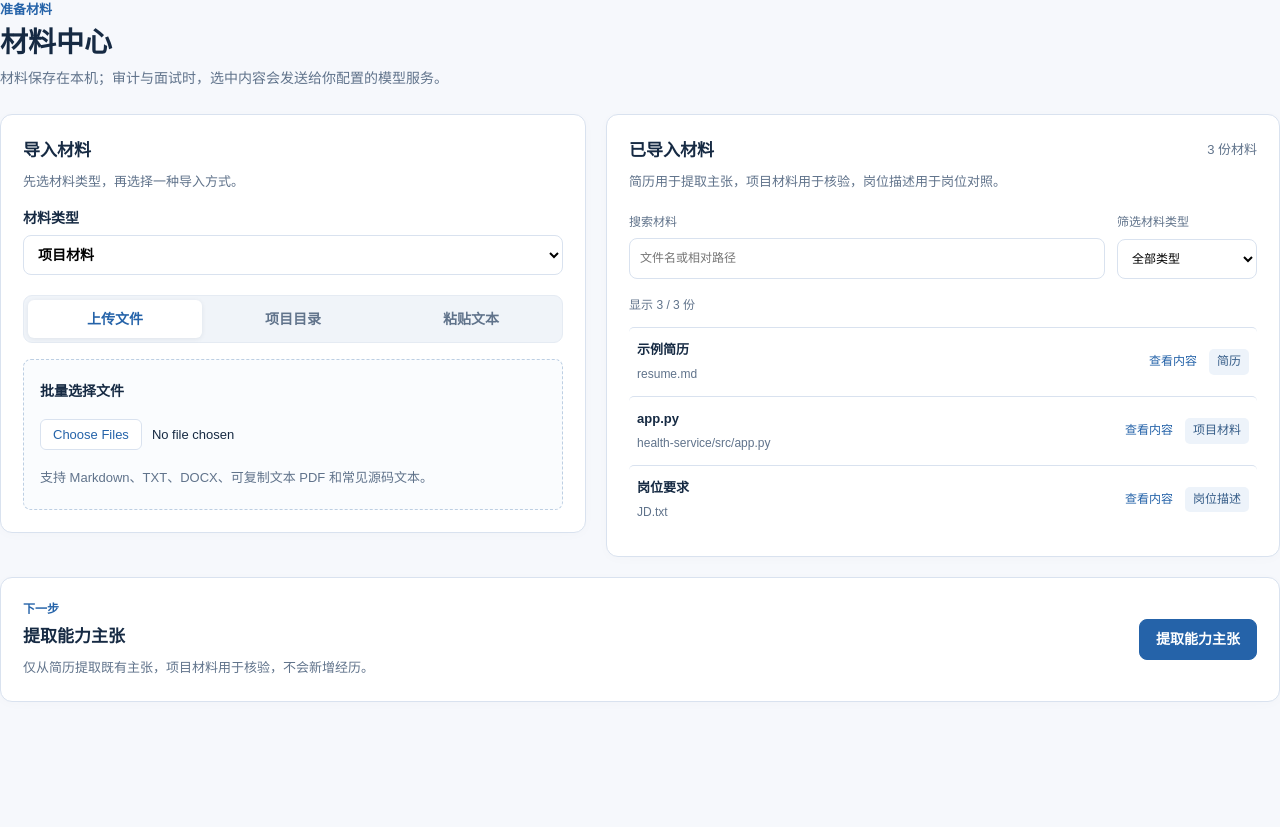
Scenario: 预览失败（http）不展示旧内容，允许手动重试GET
This screenshot has width=1280, height=827.
What coordinates should you click on to do the following:
click the button "app.py health-service/src/app.py 查看内容"
I would click on:
 (658, 418)
Its box is [637,409,1173,453].
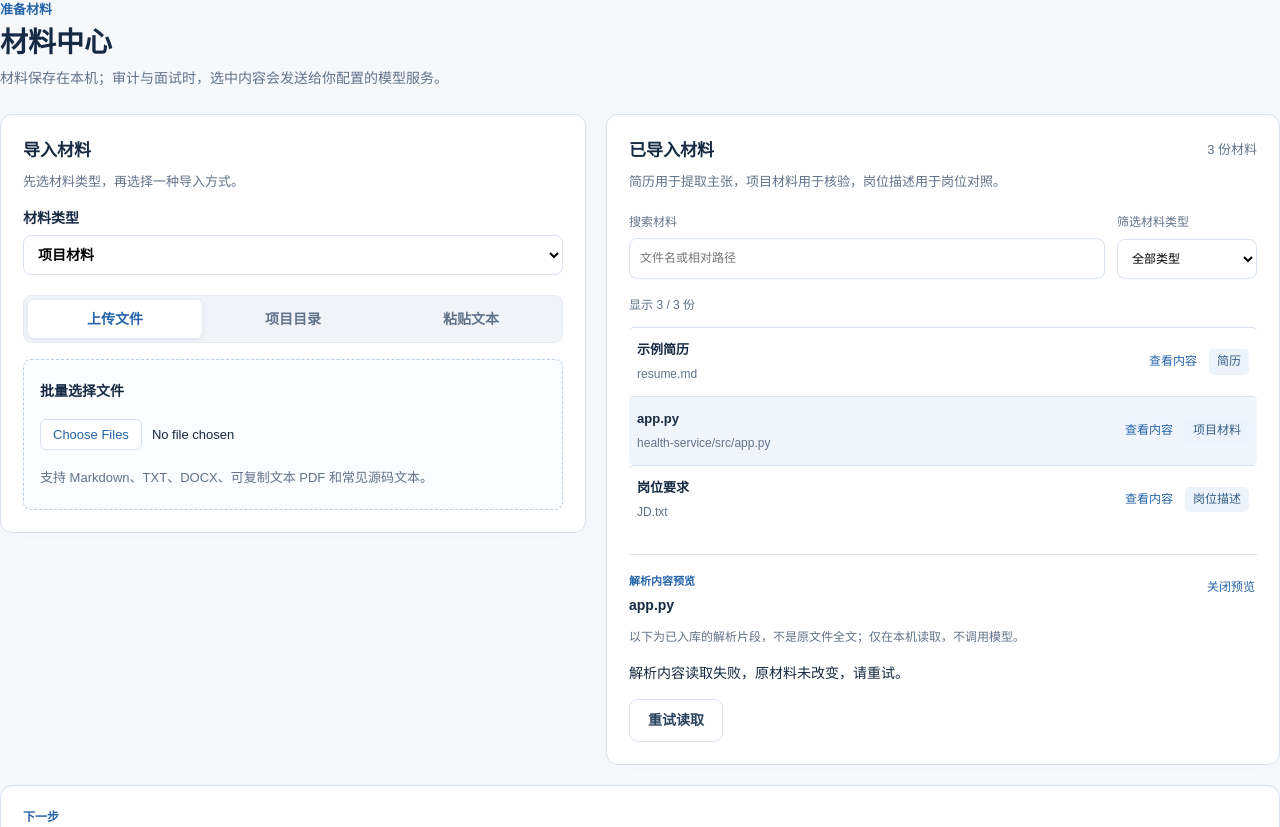
Check: the text "原文片段" is not shown
Check: the message shows "解析内容读取失败", box [629,666,909,682]
What coordinates should you click on to do the following:
click the button "重试读取"
I would click on:
 (676, 720)
Its box is [629,699,723,742].
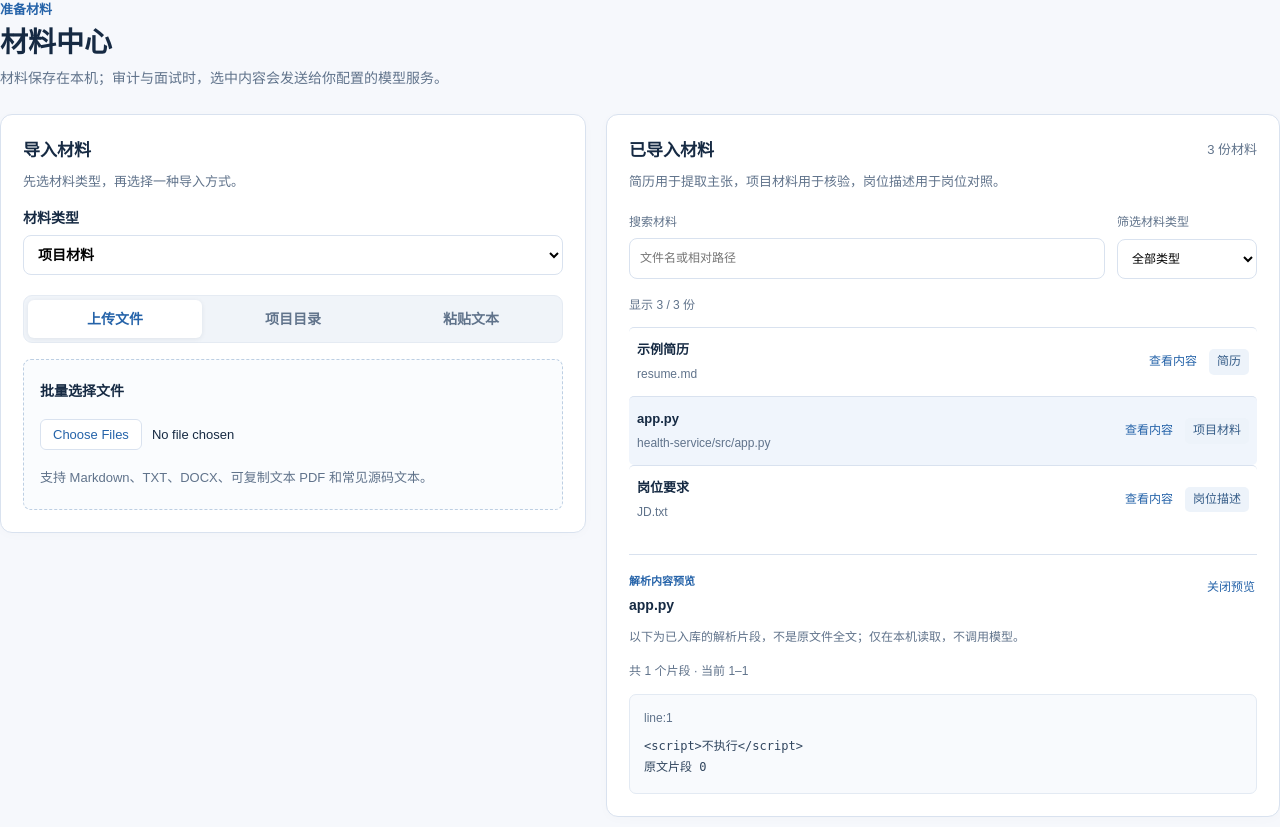
Check: the text "<script>不执行</script> 原文片段 0" is shown, box [644,739,803,774]
